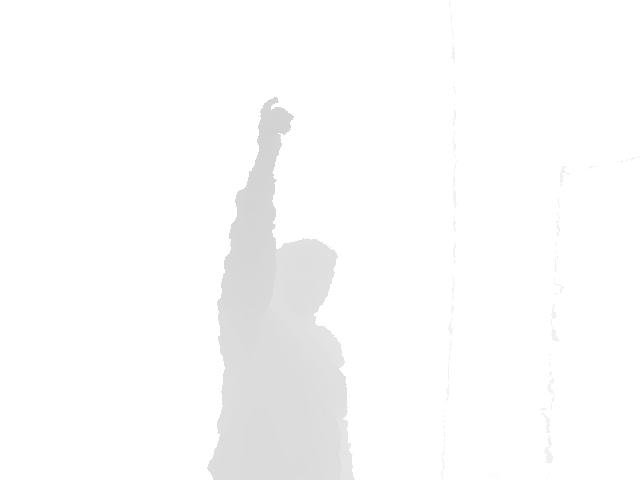hand: (255, 96, 295, 154)
head: (271, 237, 339, 316)
person: (206, 96, 357, 479)
